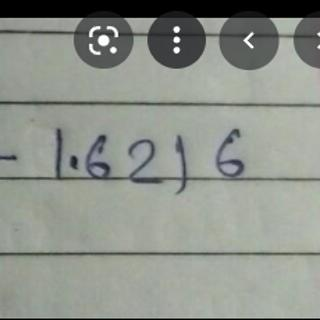.: (65, 150, 85, 172)
1: (52, 119, 68, 183), (175, 135, 192, 195)
2: (127, 137, 166, 185)
6: (215, 125, 247, 179), (84, 134, 115, 178)
